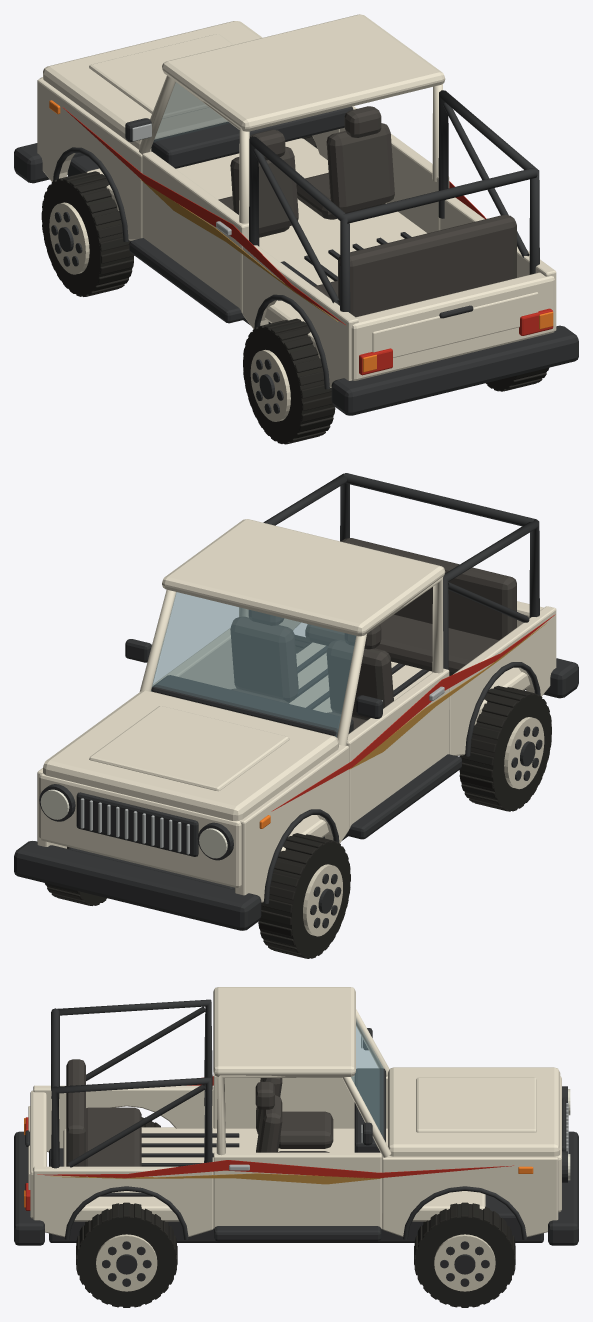
Rendered from long-chassis.glb.
3 renders of one model, top to bottom at view 1: azimuth 30°, elevation 25°; view 2: azimuth 150°, elevation 25°; view 3: azimuth 270°, elevation 25°, orthographic. The views are drawn at different scales.
Parts seen in each view (by area): view 1: Warm ivory enamel, Powder-coated steel, Charcoal vinyl seats, All-terrain rubber.001, All-terrain rubber, Crimson vinyl, Lightly tinted windshield, Painted steel wheels.001, Painted steel wheels, Ochre vinyl, Powder-coated steel.002, Powder-coated steel.001 (+2 smaller); view 2: Warm ivory enamel, Powder-coated steel, Lightly tinted windshield, Charcoal vinyl seats, All-terrain rubber.001, All-terrain rubber, Crimson vinyl, Brushed metal, Painted steel wheels, Painted steel wheels.001, Headlight lenses, Ochre vinyl (+3 smaller); view 3: Warm ivory enamel, Powder-coated steel, Charcoal vinyl seats, All-terrain rubber.003, All-terrain rubber.002, Crimson vinyl, Painted steel wheels.002, Painted steel wheels.003, Lightly tinted windshield, Ochre vinyl, Powder-coated steel.003, Powder-coated steel.004.
Boxes of the visible parts, <box> form: Warm ivory enamel: <box>37,14,556,387</box>; Powder-coated steel: <box>14,90,578,415</box>; Charcoal vinyl seats: <box>218,106,516,317</box>; All-terrain rubber.001: <box>41,171,134,296</box>; All-terrain rubber: <box>243,318,335,444</box>; Crimson vinyl: <box>62,107,553,375</box>; Lightly tinted windshield: <box>153,82,229,142</box>; Painted steel wheels.001: <box>49,202,89,274</box>; Painted steel wheels: <box>250,349,290,421</box>; Ochre vinyl: <box>140,179,338,321</box>; Powder-coated steel.002: <box>51,212,82,266</box>; Powder-coated steel.001: <box>252,359,283,413</box>; Warm ivory enamel: <box>37,519,556,902</box>; Powder-coated steel: <box>14,473,578,930</box>; Lightly tinted windshield: <box>151,592,355,737</box>; Charcoal vinyl seats: <box>230,538,516,729</box>; All-terrain rubber.001: <box>258,833,350,958</box>; All-terrain rubber: <box>459,685,551,811</box>; Crimson vinyl: <box>271,614,555,811</box>; Brushed metal: <box>80,643,444,854</box>; Painted steel wheels: <box>504,717,544,789</box>; Painted steel wheels.001: <box>303,864,342,936</box>; Headlight lenses: <box>40,789,227,858</box>; Ochre vinyl: <box>349,622,547,769</box>; Warm ivory enamel: <box>28,987,561,1237</box>; Powder-coated steel: <box>14,999,578,1245</box>; Charcoal vinyl seats: <box>66,1059,333,1166</box>; All-terrain rubber.003: <box>414,1202,515,1307</box>; All-terrain rubber.002: <box>76,1202,177,1307</box>; Crimson vinyl: <box>25,1076,513,1210</box>; Painted steel wheels.002: <box>96,1234,157,1291</box>; Painted steel wheels.003: <box>434,1234,495,1291</box>; Lightly tinted windshield: <box>351,1019,383,1137</box>; Ochre vinyl: <box>50,1173,382,1184</box>; Powder-coated steel.003: <box>102,1241,151,1286</box>; Powder-coated steel.004: <box>440,1241,489,1286</box>.
Size of the model in its own units: 1.97 by 1.96 by 4.36.
